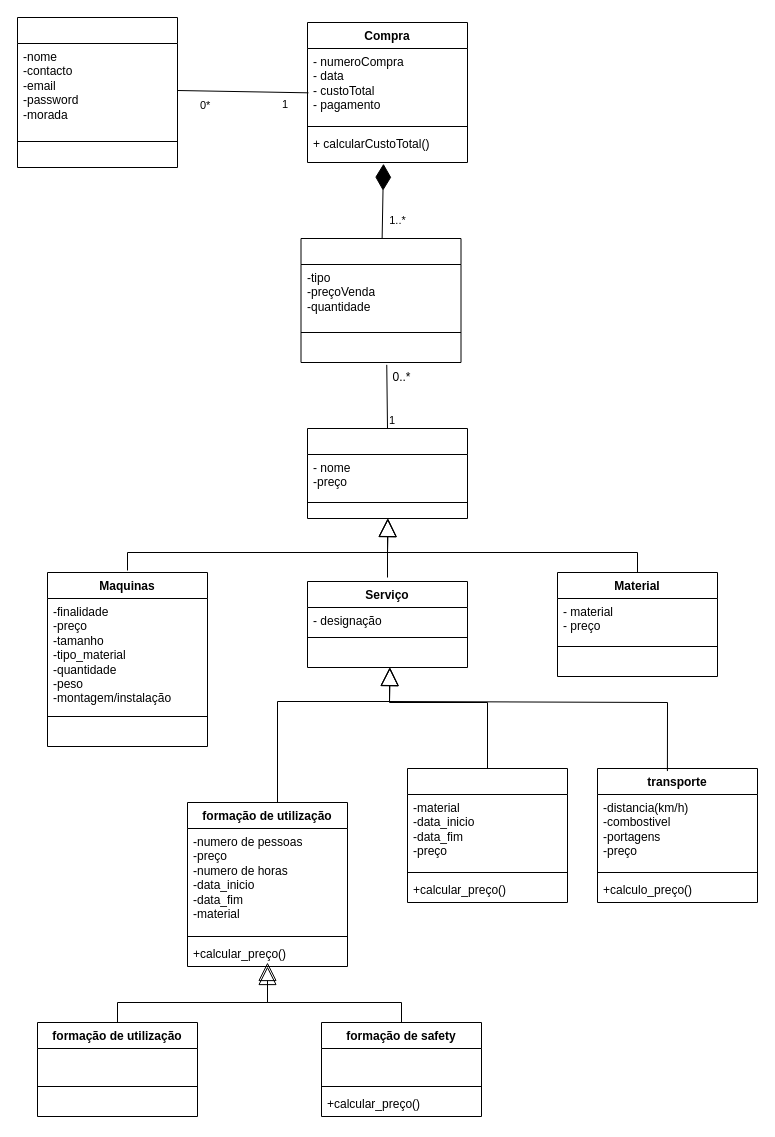
This 775x1137 diagram has some shape labels left out. Here are the shapes that lost their labels. From the top down, the box of each, then its label:
(16, 16, 178, 168): Cliente
(300, 238, 461, 362): compra/items
(306, 428, 468, 518): Item
(406, 768, 568, 902): reparações
